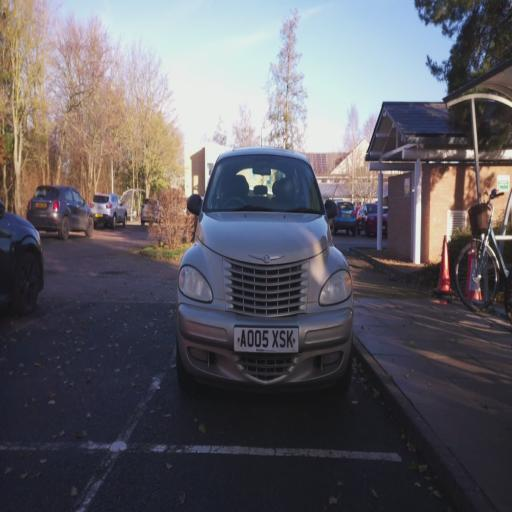numberplates: (234, 327, 298, 353), (36, 203, 46, 208), (343, 214, 350, 217), (96, 214, 103, 217)
